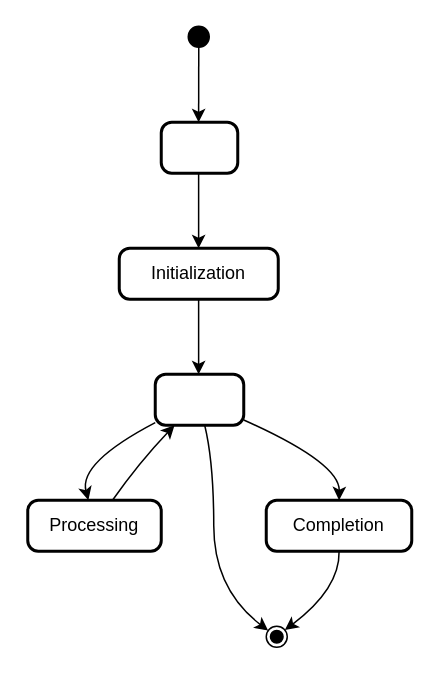
This 438x674 diagram has some shape labels left out. The shapes that lost their labels are listed below. From the top down, each one's box as (x1, y1, x2, y2) in pixels, then its label:
(159, 120, 238, 174): Start
(153, 372, 244, 426): Ready
